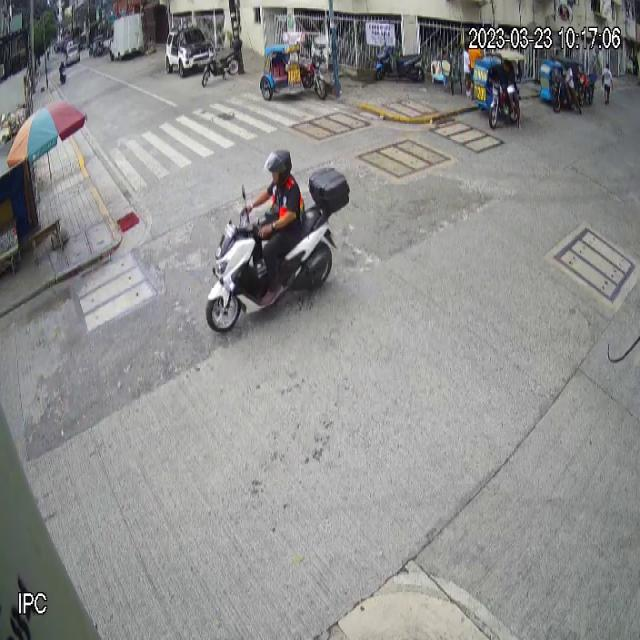Motorcycle: (206, 166, 352, 334)
Tricycle: (260, 31, 330, 104), (474, 49, 524, 128)
